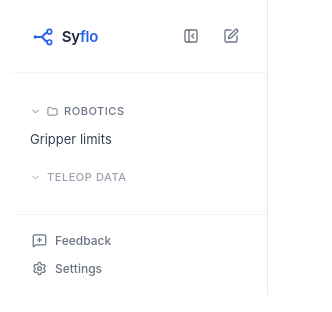
the category’s own menu › offers the container’s verbs and promises that the chats survive
Right-click the text "Robotics" at (94, 111), box [64,104,125,118]
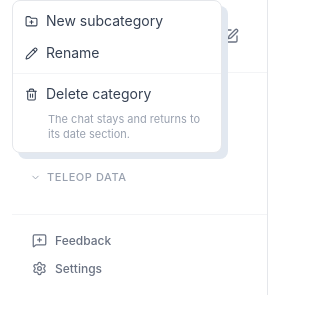
Expected: the button "New subcategory" is shown, [13,5,221,37]
Expected: the button "Delete category" is shown, [13,78,221,110]
Expected: the text "The chat stays and returns to its date section." is shown, [48,112,200,141]
